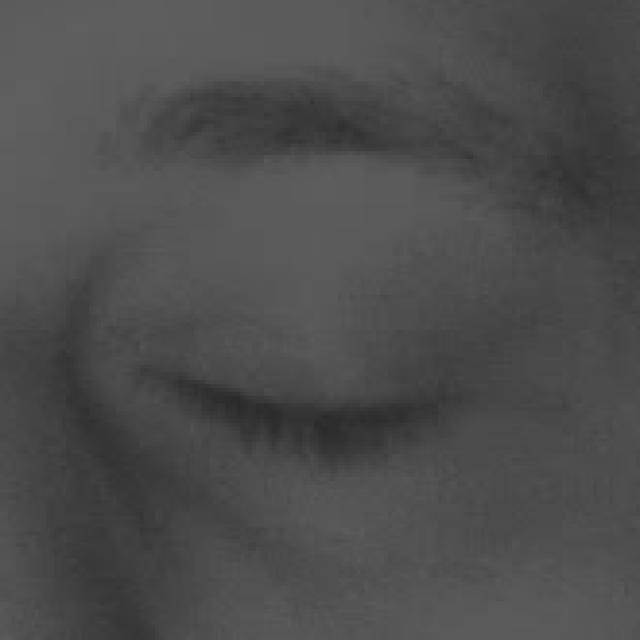Eyeclosed: (129, 235, 455, 583)
